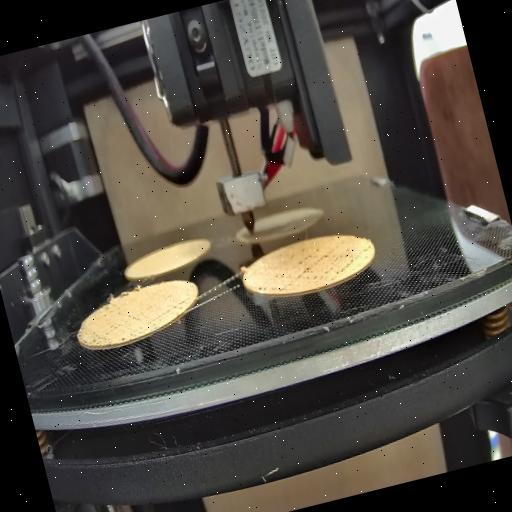under_extrusion: (294, 237, 362, 286), (86, 305, 146, 349), (255, 269, 290, 300), (152, 301, 192, 322)
